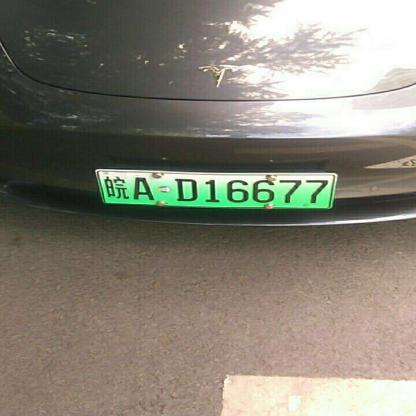lp: (97, 171, 334, 206)
